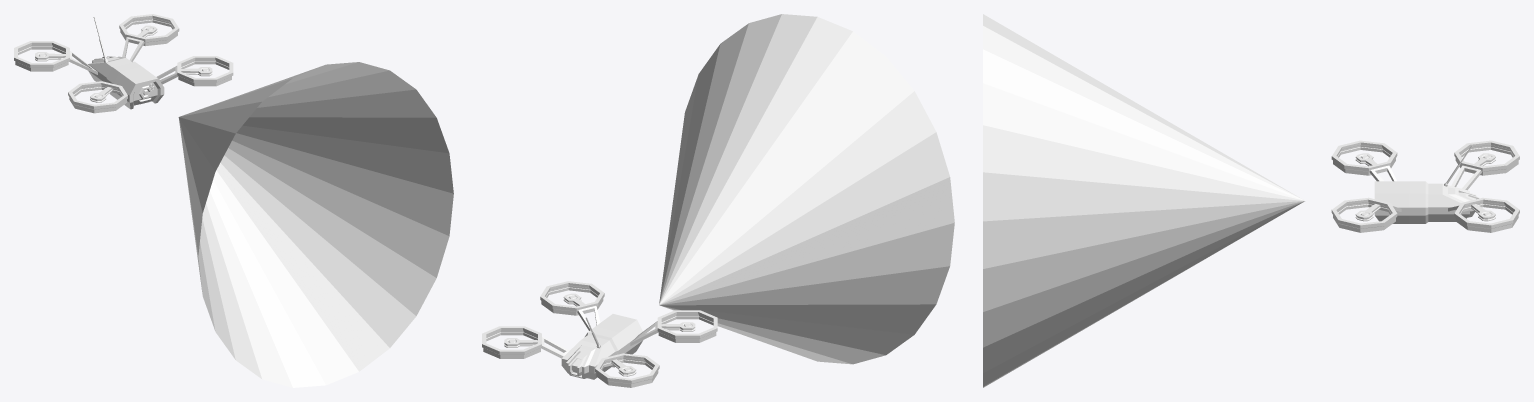
File: Drone 01.fbx
The picture shows the model from 3 angles, left to right: view 1: azimuth 30°, elevation 25°; view 2: azimuth 150°, elevation 25°; view 3: azimuth 270°, elevation 25°; orthographic projection. The views are drawn at different scales.
Visible parts, largest first — view 1: Cone, Model; view 2: Cone, Model; view 3: Cone, Model.
Boxes of the visible parts, x1=… form: Cone: x1=178, y1=62, x2=453, y2=387; Model: x1=14, y1=14, x2=233, y2=113; Cone: x1=659, y1=14, x2=954, y2=364; Model: x1=482, y1=281, x2=717, y2=387; Cone: x1=983, y1=14, x2=1304, y2=387; Model: x1=1331, y1=140, x2=1519, y2=232.
Size of the model in its own units: 3 by 3.6 by 4.99.
